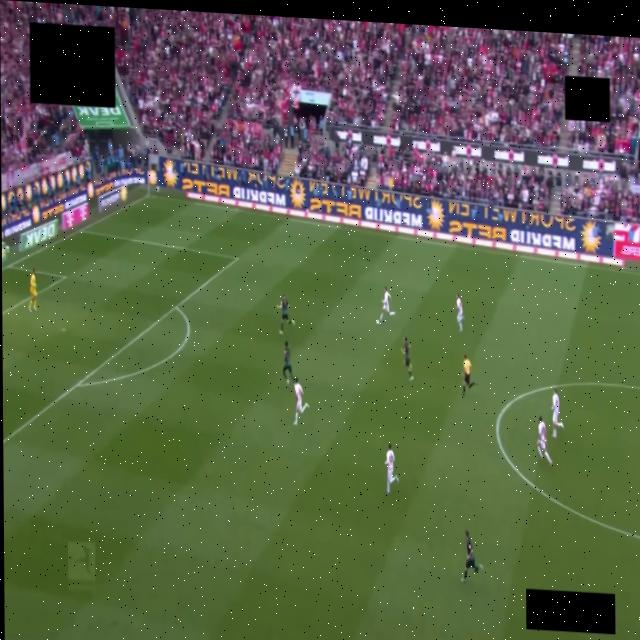ball: (376, 320, 378, 325)
player: (461, 531, 482, 582), (536, 416, 551, 464), (293, 377, 308, 424), (376, 287, 394, 324), (276, 295, 293, 334), (385, 444, 397, 494), (551, 389, 563, 438), (401, 337, 413, 381), (283, 342, 293, 384), (29, 268, 38, 312), (455, 294, 463, 331)
referee: (462, 355, 475, 396)
